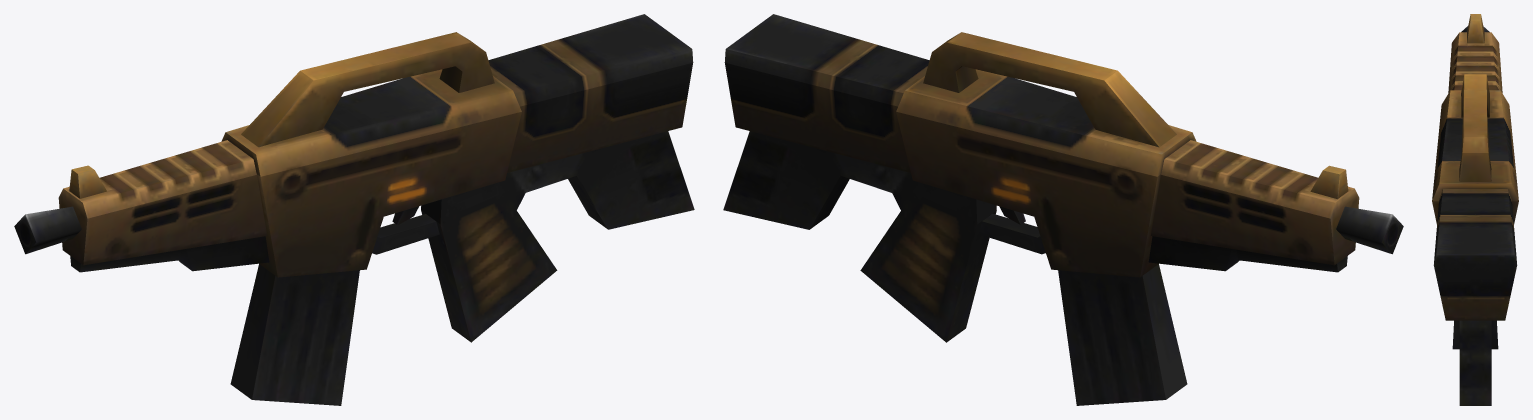
3 views of the same model, side by side, from view 1: azimuth 30°, elevation 25°; view 2: azimuth 150°, elevation 25°; view 3: azimuth 270°, elevation 25° (orthographic). The views are drawn at different scales.
Visible parts, largest first — view 1: FN2000; view 2: FN2000; view 3: FN2000.
Boxes of the visible parts, x1,y1,x2,y2 form: FN2000: [14, 14, 694, 405]; FN2000: [723, 14, 1403, 405]; FN2000: [1432, 14, 1518, 405].
Size of the model in its own units: 1.14 by 0.5377 by 0.1588.
